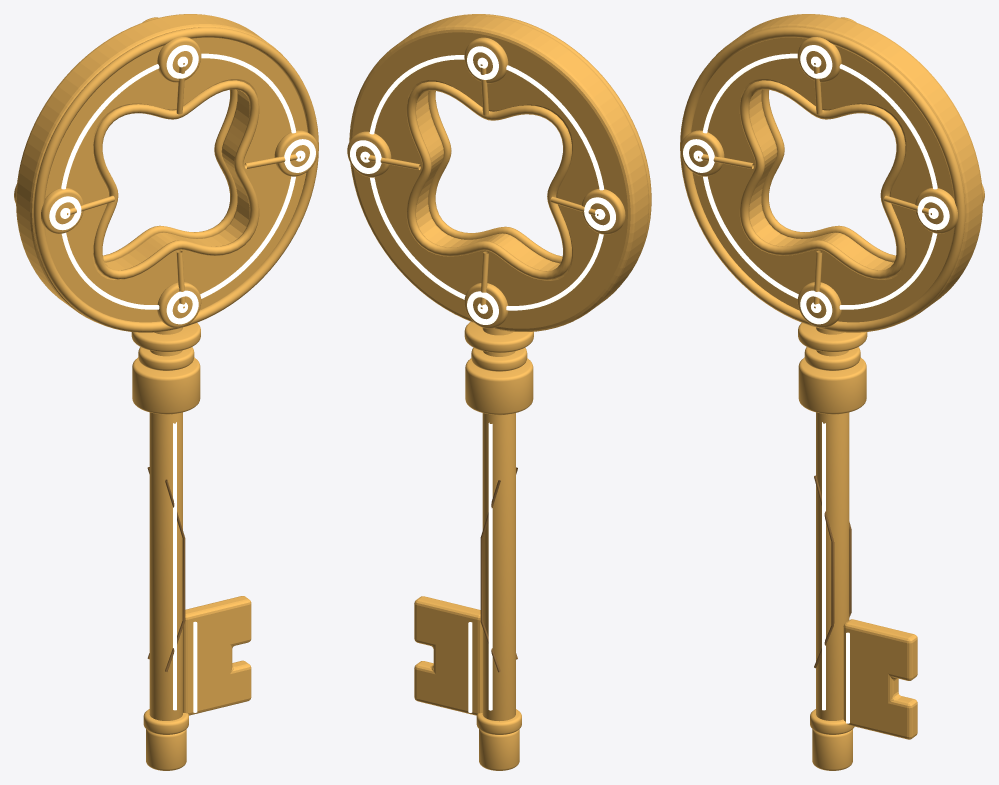
Rendered from golden-key.glb.
The picture shows the model from 3 angles, left to right: view 1: azimuth 30°, elevation 25°; view 2: azimuth 150°, elevation 25°; view 3: azimuth 330°, elevation 25°; orthographic projection.
Visible parts, largest first — view 1: Key_CloverHead, Key_Shaft, Key_outer_rolled_rim, Key_SteppedBit, Key_clover_inner_rim.001, Key_light_bus.001, Key_Collar_1.24, Key_clover_inner_rim, Key_Collar_0.065, Key_Collar_1.4, Key_Shaft_light.001, Key_Node_1_1 (+10 smaller); view 2: Key_CloverHead, Key_Shaft, Key_SteppedBit, Key_clover_inner_rim, Key_light_bus, Key_Collar_1.24, Key_clover_inner_rim.001, Key_Collar_0.065, Key_Shaft_light, Key_Collar_1.4, Key_outer_rolled_rim, Key_Node_-1_2 (+10 smaller); view 3: Key_CloverHead, Key_outer_rolled_rim, Key_Shaft, Key_SteppedBit, Key_clover_inner_rim.001, Key_light_bus.001, Key_Collar_1.24, Key_clover_inner_rim, Key_Collar_0.065, Key_Collar_1.4, Key_Shaft_light.001, Key_Node_1_1 (+10 smaller).
Part boxes in pixels (x1,y1,x2,y2): Key_CloverHead: [16, 14, 307, 322]; Key_Shaft: [149, 327, 182, 720]; Key_outer_rolled_rim: [33, 27, 318, 332]; Key_SteppedBit: [183, 596, 251, 715]; Key_clover_inner_rim.001: [93, 80, 259, 279]; Key_light_bus.001: [61, 53, 295, 309]; Key_Collar_1.24: [132, 357, 200, 414]; Key_clover_inner_rim: [103, 89, 237, 262]; Key_Collar_0.065: [146, 729, 186, 770]; Key_Collar_1.4: [131, 323, 200, 351]; Key_Shaft_light.001: [173, 422, 176, 710]; Key_Node_1_1: [157, 37, 201, 82]; Key_CloverHead: [349, 15, 649, 331]; Key_Shaft: [482, 328, 515, 721]; Key_SteppedBit: [414, 596, 482, 715]; Key_clover_inner_rim: [406, 81, 571, 280]; Key_light_bus: [369, 55, 603, 310]; Key_Collar_1.24: [465, 358, 533, 414]; Key_clover_inner_rim.001: [428, 90, 562, 263]; Key_Collar_0.065: [479, 729, 519, 770]; Key_Shaft_light: [488, 422, 492, 710]; Key_Collar_1.4: [464, 322, 533, 352]; Key_outer_rolled_rim: [437, 14, 651, 278]; Key_Node_-1_2: [581, 189, 625, 234]; Key_CloverHead: [691, 14, 982, 322]; Key_outer_rolled_rim: [680, 27, 965, 332]; Key_Shaft: [816, 327, 849, 720]; Key_SteppedBit: [843, 619, 917, 739]; Key_clover_inner_rim.001: [739, 80, 905, 279]; Key_light_bus.001: [703, 53, 937, 309]; Key_Collar_1.24: [798, 357, 866, 414]; Key_clover_inner_rim: [761, 89, 895, 262]; Key_Collar_0.065: [812, 729, 852, 770]; Key_Collar_1.4: [798, 323, 867, 351]; Key_Shaft_light.001: [822, 422, 825, 710]; Key_Node_1_1: [797, 37, 841, 82].
Bounding box in the file's own units: 0.97 × 2.4 × 0.2091.
